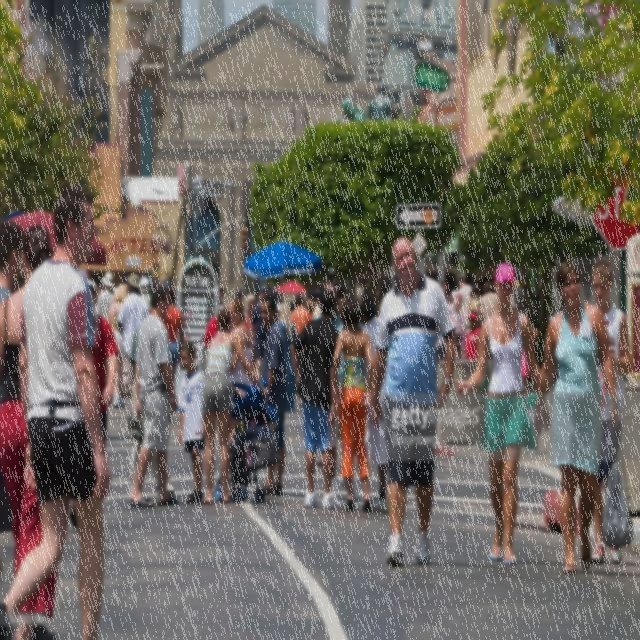pessoa: (0, 182, 113, 640), (450, 256, 554, 570), (366, 230, 459, 570), (0, 216, 73, 639), (533, 260, 621, 578), (0, 211, 36, 639), (198, 306, 272, 506), (588, 259, 634, 566), (67, 277, 120, 534), (127, 282, 182, 511), (289, 288, 343, 510), (312, 279, 362, 502), (332, 294, 374, 516), (354, 290, 389, 514), (256, 294, 288, 499), (176, 340, 206, 503), (340, 85, 441, 132), (224, 296, 254, 445), (116, 274, 150, 398), (106, 282, 131, 410), (160, 286, 186, 386), (514, 304, 540, 400), (278, 302, 298, 414), (250, 284, 270, 387), (290, 291, 312, 373), (223, 95, 253, 144), (198, 308, 220, 373), (282, 95, 312, 136), (164, 92, 187, 142), (448, 292, 466, 352), (95, 270, 116, 320), (478, 279, 498, 329), (462, 308, 480, 361), (456, 274, 472, 330), (235, 286, 256, 318), (466, 282, 482, 322), (274, 290, 298, 316), (305, 288, 321, 322), (376, 276, 392, 304), (138, 276, 152, 306), (436, 326, 446, 360), (215, 282, 228, 308), (441, 278, 452, 306), (454, 331, 464, 361), (166, 284, 178, 304), (97, 280, 105, 292)
